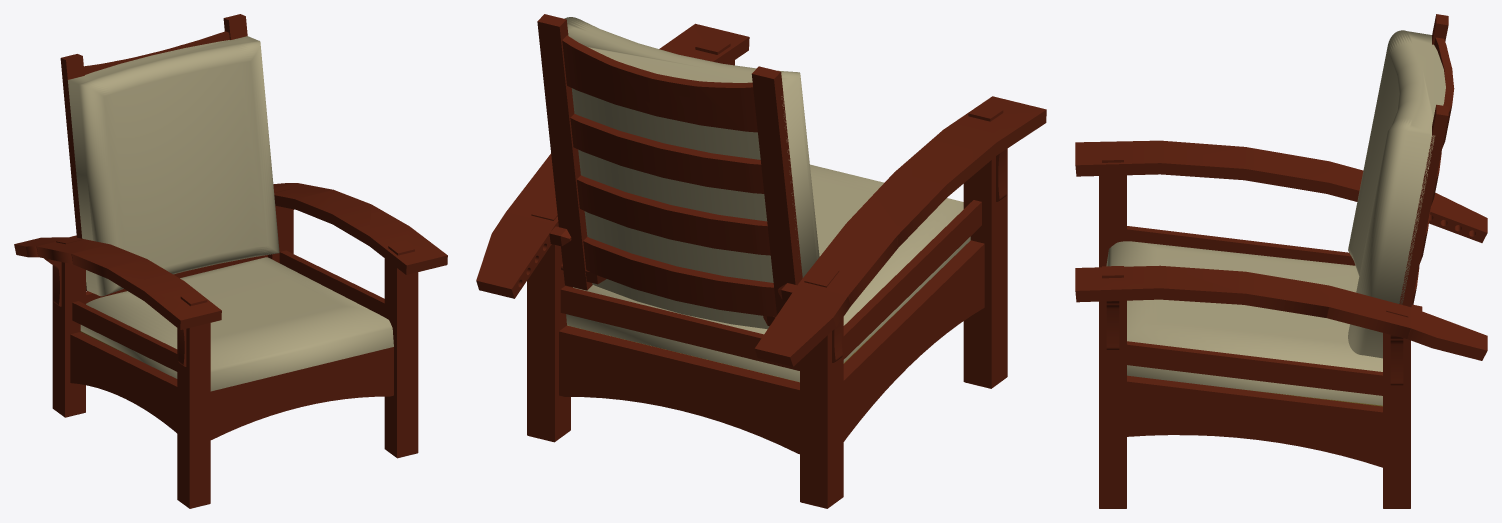
File: Arm chair.fbx
3 views of the same model, side by side, from view 1: azimuth 30°, elevation 25°; view 2: azimuth 150°, elevation 25°; view 3: azimuth 270°, elevation 25° (orthographic). The views are drawn at different scales.
Parts seen in each view (by area): view 1: Group36, Group27, Group1, Group33, Group34, Group4, Group3, Group8, Group35, Group9, Group11, Group21 (+4 smaller); view 2: Group36, Group33, Group6, Group8, Group27, Group20, Group3, Group34, Group35, Group5, Group24, Group22 (+5 smaller); view 3: Group27, Group36, Group10, Group3, Group33, Group11, Group4, Group5, Group9, Group24, Group34, Group20 (+2 smaller).
Part boxes in pixels (x1,y1,x2,y2): Group36: (68, 36, 279, 296); Group27: (80, 257, 393, 391); Group1: (210, 347, 393, 439); Group33: (14, 237, 221, 329); Group34: (177, 292, 210, 508); Group4: (384, 241, 418, 458); Group3: (273, 183, 447, 274); Group8: (70, 332, 177, 433); Group35: (52, 237, 85, 417); Group9: (72, 301, 177, 371); Group11: (279, 250, 384, 316); Group21: (60, 54, 87, 291); Group36: (564, 17, 819, 329); Group33: (754, 96, 1046, 366); Group6: (559, 325, 799, 454); Group8: (843, 240, 984, 441); Group27: (566, 164, 970, 382); Group20: (562, 35, 757, 132); Group3: (476, 23, 749, 298); Group34: (963, 104, 1007, 388); Group35: (800, 265, 843, 508); Group5: (527, 198, 570, 442); Group24: (537, 14, 592, 290); Group22: (577, 175, 770, 255); Group27: (1106, 241, 1382, 405); Group36: (1348, 30, 1445, 358); Group10: (1127, 375, 1382, 467); Group3: (1075, 265, 1487, 360); Group33: (1075, 140, 1487, 242); Group11: (1127, 341, 1382, 395); Group4: (1099, 266, 1126, 508); Group5: (1383, 301, 1410, 508); Group9: (1127, 226, 1355, 265); Group24: (1399, 104, 1448, 306); Group34: (1099, 150, 1126, 267); Group20: (1434, 37, 1454, 147).
Size of the model in its own units: 31.56 by 37.8 by 37.
